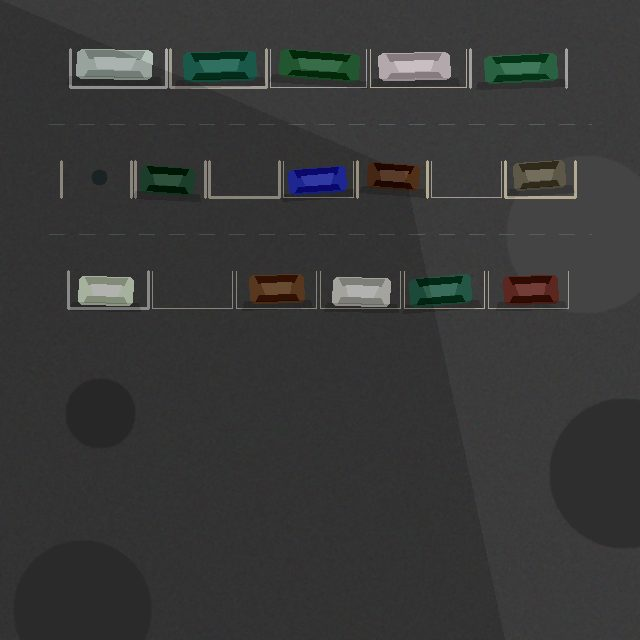space-empty: (152, 271, 232, 308), (61, 161, 131, 197), (209, 161, 279, 197), (431, 161, 501, 197)
space-occupied: (70, 49, 166, 87), (170, 49, 266, 87), (270, 49, 366, 87), (370, 49, 466, 87), (470, 49, 566, 87), (68, 271, 148, 308), (236, 271, 316, 308), (320, 271, 400, 308), (404, 271, 484, 308), (488, 271, 568, 308), (135, 161, 205, 197), (283, 161, 353, 197), (357, 161, 427, 197), (505, 161, 575, 197)
